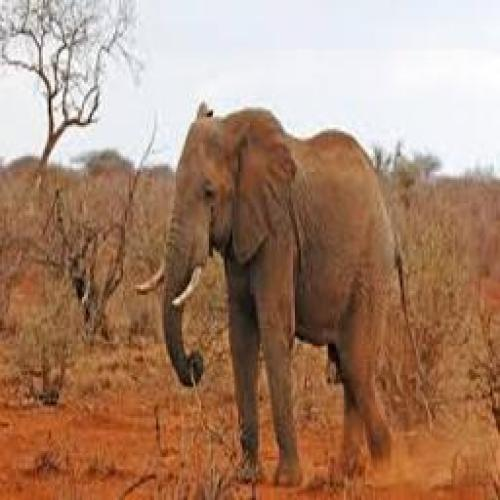african_elephant-endangered: (131, 98, 427, 486)
